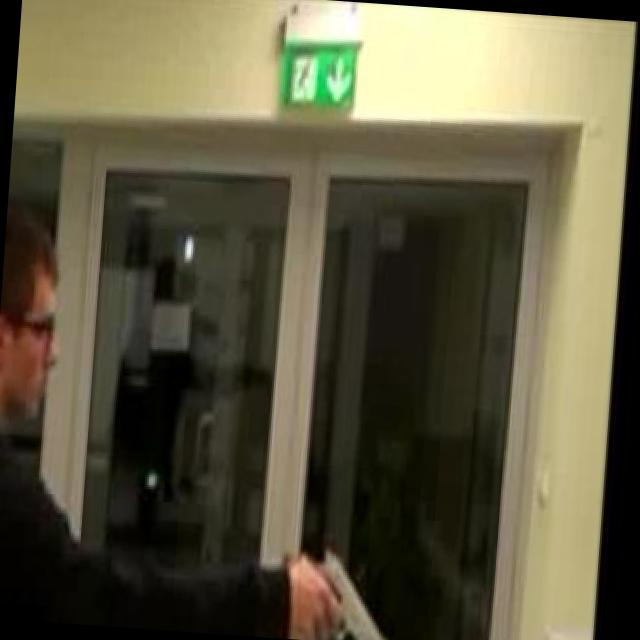Guns: (292, 531, 407, 640)
